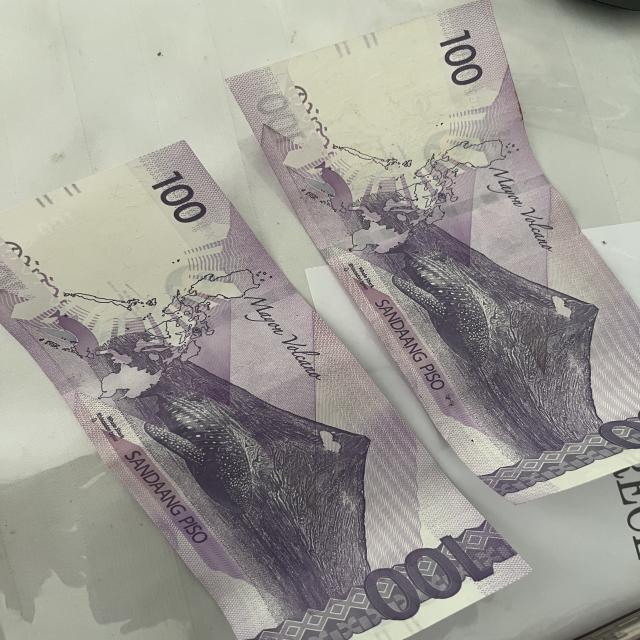100_whale: (354, 234, 499, 372), (130, 376, 255, 510)
100_whale_watermark: (18, 296, 125, 394), (290, 151, 361, 234)
watermark: (295, 36, 485, 168)
